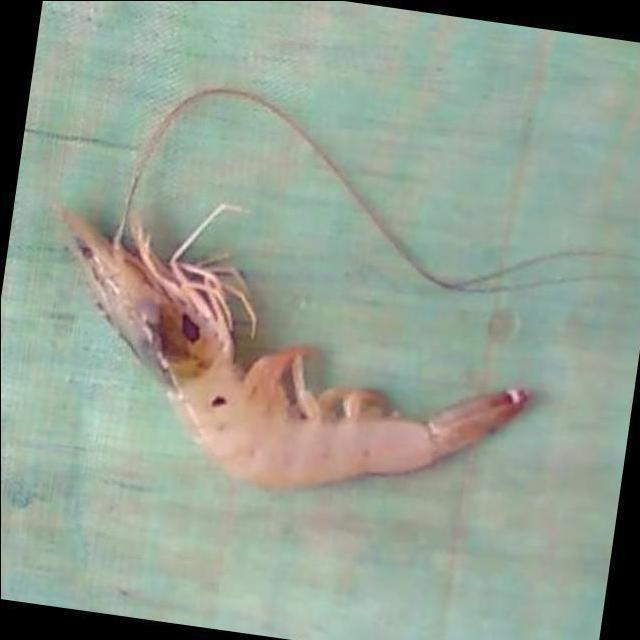shrimp: (58, 204, 530, 489)
